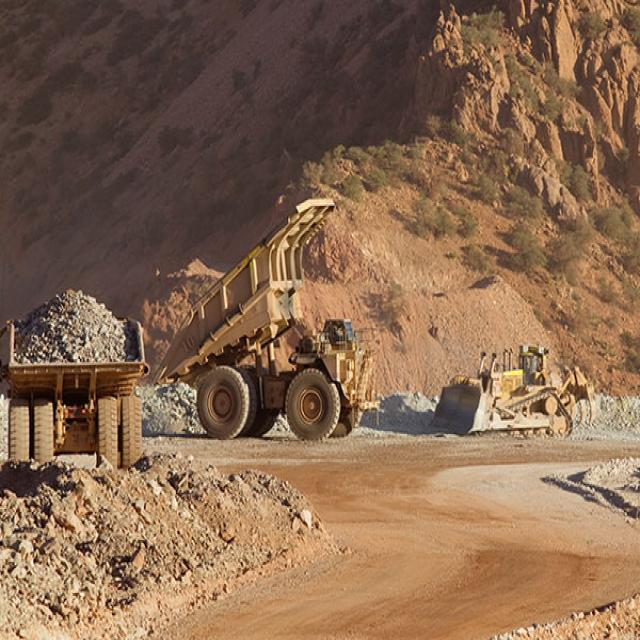buldozerpayloadergrader: (428, 336, 604, 454)
dump_truck: (157, 187, 376, 438), (6, 281, 152, 487)
